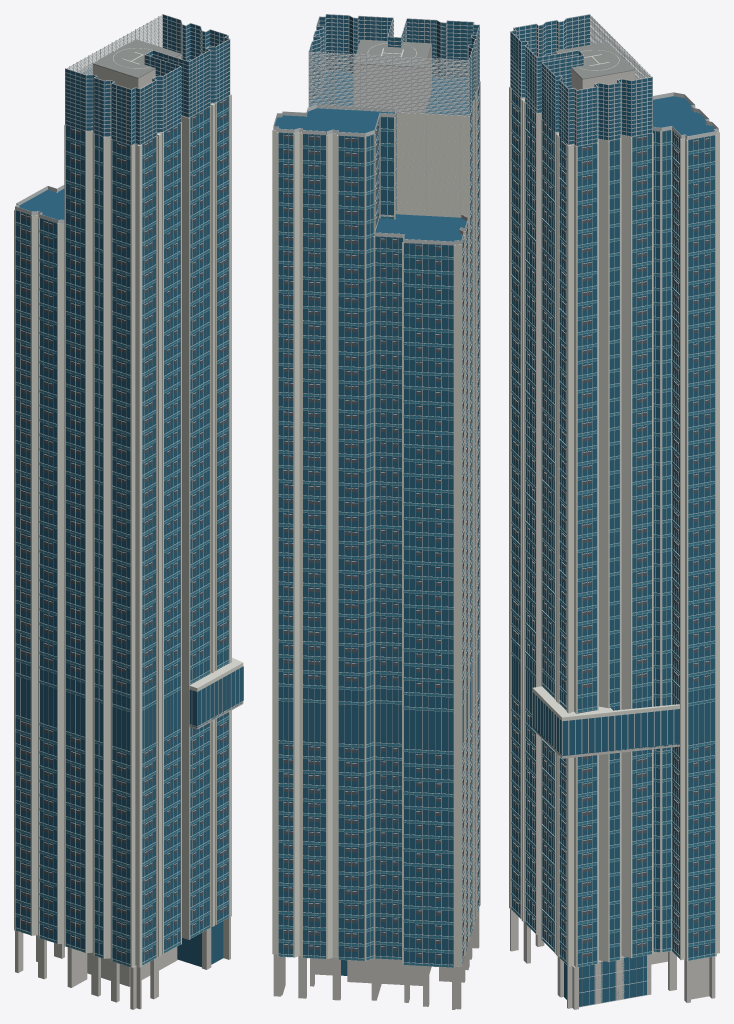
Rendered from bespoke-raemian-caelitus-101.glb.
3 renders of one model, left to right at view 1: azimuth 30°, elevation 25°; view 2: azimuth 150°, elevation 25°; view 3: azimuth 270°, elevation 25°, orthographic.
Visible parts, largest first — view 1: Caelitus_101_riverfront_notched_pair_occupied_mass, Caelitus_101_riverfront_notched_pair_bay_edge_fins, Caelitus_101_riverfront_notched_pair_solid_bay_returns, Caelitus_101_northwest_49storey_arm_occupied_mass, Caelitus_101_riverfront_notched_pair_blue_spandrels, Caelitus_101_riverfront_notched_pair_silver_mullions, Caelitus_101_four_primary_riverfront_stone_axes, Caelitus_101_riverfront_notched_pair_silver_transoms, Caelitus_101_crown_blue_screen, Caelitus_101_riverfront_notched_pair_opening_sashes, Caelitus_101_northwest_49storey_arm_solid_bay_returns, Caelitus_101_deep_central_slot_sidewalls (+17 smaller); view 2: Caelitus_101_northeast_56storey_arm_occupied_mass, Caelitus_101_northwest_49storey_arm_occupied_mass, Caelitus_101_northeast_56storey_arm_solid_bay_returns, Caelitus_101_northeast_56storey_arm_bay_edge_fins, Caelitus_101_northeast_56storey_arm_blue_spandrels, Caelitus_101_northwest_49storey_arm_blue_spandrels, Caelitus_101_open_crown_louvres, Caelitus_101_northwest_49storey_arm_bay_edge_fins, Caelitus_101_northwest_49storey_arm_silver_mullions, Caelitus_101_riverfront_notched_pair_bay_edge_fins, Caelitus_101_northwest_49storey_arm_silver_transoms, Caelitus_101_northeast_56storey_arm_silver_mullions (+21 smaller); view 3: Caelitus_101_riverfront_notched_pair_occupied_mass, Caelitus_101_northeast_56storey_arm_occupied_mass, Caelitus_101_riverfront_notched_pair_bay_edge_fins, Caelitus_101_riverfront_notched_pair_solid_bay_returns, Caelitus_101_riverfront_notched_pair_silver_mullions, Caelitus_101_riverfront_notched_pair_blue_spandrels, Caelitus_101_four_primary_riverfront_stone_axes, Caelitus_101_northeast_56storey_arm_bay_edge_fins, Caelitus_101_crown_blue_screen, Caelitus_101_riverfront_notched_pair_silver_transoms, Caelitus_101_riverfront_notched_pair_opening_sashes, Caelitus_101_northeast_56storey_arm_blue_spandrels (+17 smaller).
Part boxes in pixels (x1,y1,x2,y2): Caelitus_101_riverfront_notched_pair_occupied_mass: [66, 96, 228, 963]; Caelitus_101_riverfront_notched_pair_bay_edge_fins: [64, 95, 230, 967]; Caelitus_101_riverfront_notched_pair_solid_bay_returns: [86, 103, 215, 966]; Caelitus_101_northwest_49storey_arm_occupied_mass: [15, 189, 64, 940]; Caelitus_101_riverfront_notched_pair_blue_spandrels: [66, 108, 228, 966]; Caelitus_101_riverfront_notched_pair_silver_mullions: [70, 97, 226, 965]; Caelitus_101_four_primary_riverfront_stone_axes: [137, 94, 231, 967]; Caelitus_101_riverfront_notched_pair_silver_transoms: [66, 107, 228, 966]; Caelitus_101_crown_blue_screen: [65, 15, 229, 144]; Caelitus_101_riverfront_notched_pair_opening_sashes: [71, 100, 226, 956]; Caelitus_101_northwest_49storey_arm_solid_bay_returns: [32, 215, 64, 943]; Caelitus_101_deep_central_slot_sidewalls: [180, 116, 188, 944]; Caelitus_101_northeast_56storey_arm_occupied_mass: [274, 108, 396, 958]; Caelitus_101_northwest_49storey_arm_occupied_mass: [375, 214, 467, 965]; Caelitus_101_northeast_56storey_arm_solid_bay_returns: [274, 117, 337, 958]; Caelitus_101_northeast_56storey_arm_bay_edge_fins: [272, 112, 397, 961]; Caelitus_101_northeast_56storey_arm_blue_spandrels: [278, 125, 396, 960]; Caelitus_101_northwest_49storey_arm_blue_spandrels: [375, 235, 468, 967]; Caelitus_101_open_crown_louvres: [309, 14, 479, 116]; Caelitus_101_northwest_49storey_arm_bay_edge_fins: [373, 221, 468, 967]; Caelitus_101_northwest_49storey_arm_silver_mullions: [380, 225, 467, 966]; Caelitus_101_riverfront_notched_pair_bay_edge_fins: [436, 76, 480, 940]; Caelitus_101_northwest_49storey_arm_silver_transoms: [375, 234, 468, 967]; Caelitus_101_northeast_56storey_arm_silver_mullions: [283, 115, 395, 959]; Caelitus_101_riverfront_notched_pair_occupied_mass: [511, 89, 651, 964]; Caelitus_101_northeast_56storey_arm_occupied_mass: [653, 96, 714, 958]; Caelitus_101_riverfront_notched_pair_bay_edge_fins: [520, 98, 653, 967]; Caelitus_101_riverfront_notched_pair_solid_bay_returns: [522, 97, 630, 966]; Caelitus_101_riverfront_notched_pair_silver_mullions: [513, 90, 647, 965]; Caelitus_101_riverfront_notched_pair_blue_spandrels: [511, 101, 651, 966]; Caelitus_101_four_primary_riverfront_stone_axes: [509, 87, 571, 966]; Caelitus_101_northeast_56storey_arm_bay_edge_fins: [660, 129, 719, 961]; Caelitus_101_crown_blue_screen: [510, 15, 652, 145]; Caelitus_101_riverfront_notched_pair_silver_transoms: [511, 100, 651, 967]; Caelitus_101_riverfront_notched_pair_opening_sashes: [513, 93, 646, 957]; Caelitus_101_northeast_56storey_arm_blue_spandrels: [653, 142, 715, 960].
Size of the model in its own units: 41.56 by 196 by 40.71.
